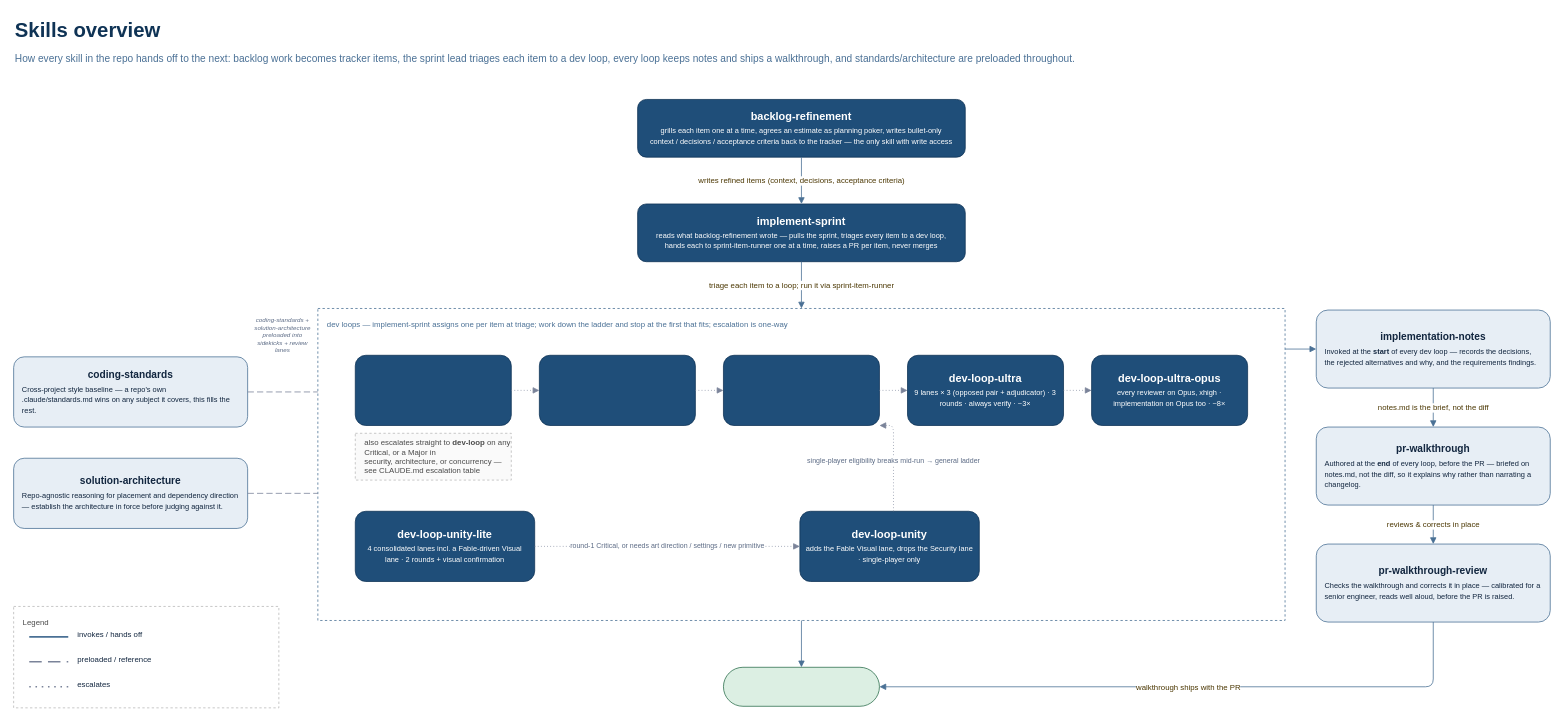
Image size: 1564x722. Some labels were removed from this diagram. The centre of each missing label's shape, as x and y in pixels:
dev-loop 9 gated lanes (4 Opus, 5 Sonnet) · 3 rounds · verify when risky · 1×: the point at 801,390
dev-loop-lite 4 consolidated lanes · 2 rounds · verify after a Critical · ~0.3×: the point at 617,390
dev-loop-ultralight 1 reviewer, 9-item sweep · 1 round · no verification · ~0.1×: the point at 433,390
PR raised — every item ends here; the loop never merges: the point at 801,686
